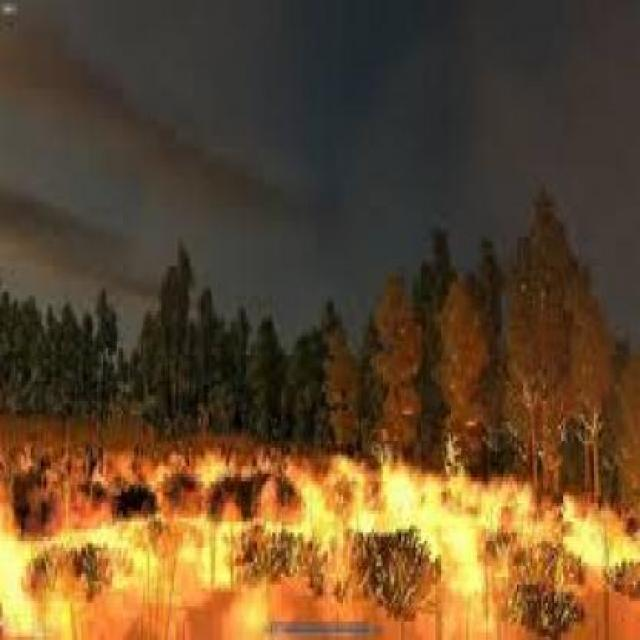Fire: (3, 374, 634, 636)
